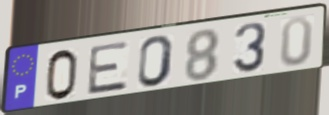0: (137, 34, 176, 89), (278, 15, 316, 69), (44, 47, 80, 102)
3: (232, 22, 268, 75)
8: (184, 26, 223, 83)
E: (85, 39, 131, 97)
